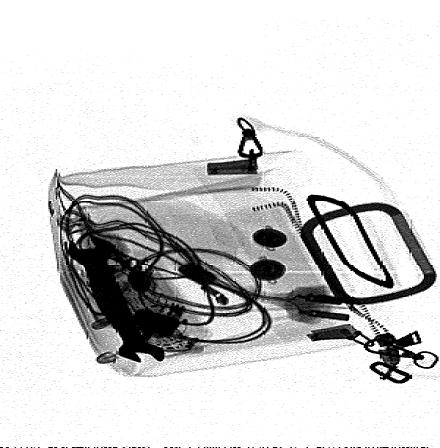Wrench: (66, 233, 167, 364)
